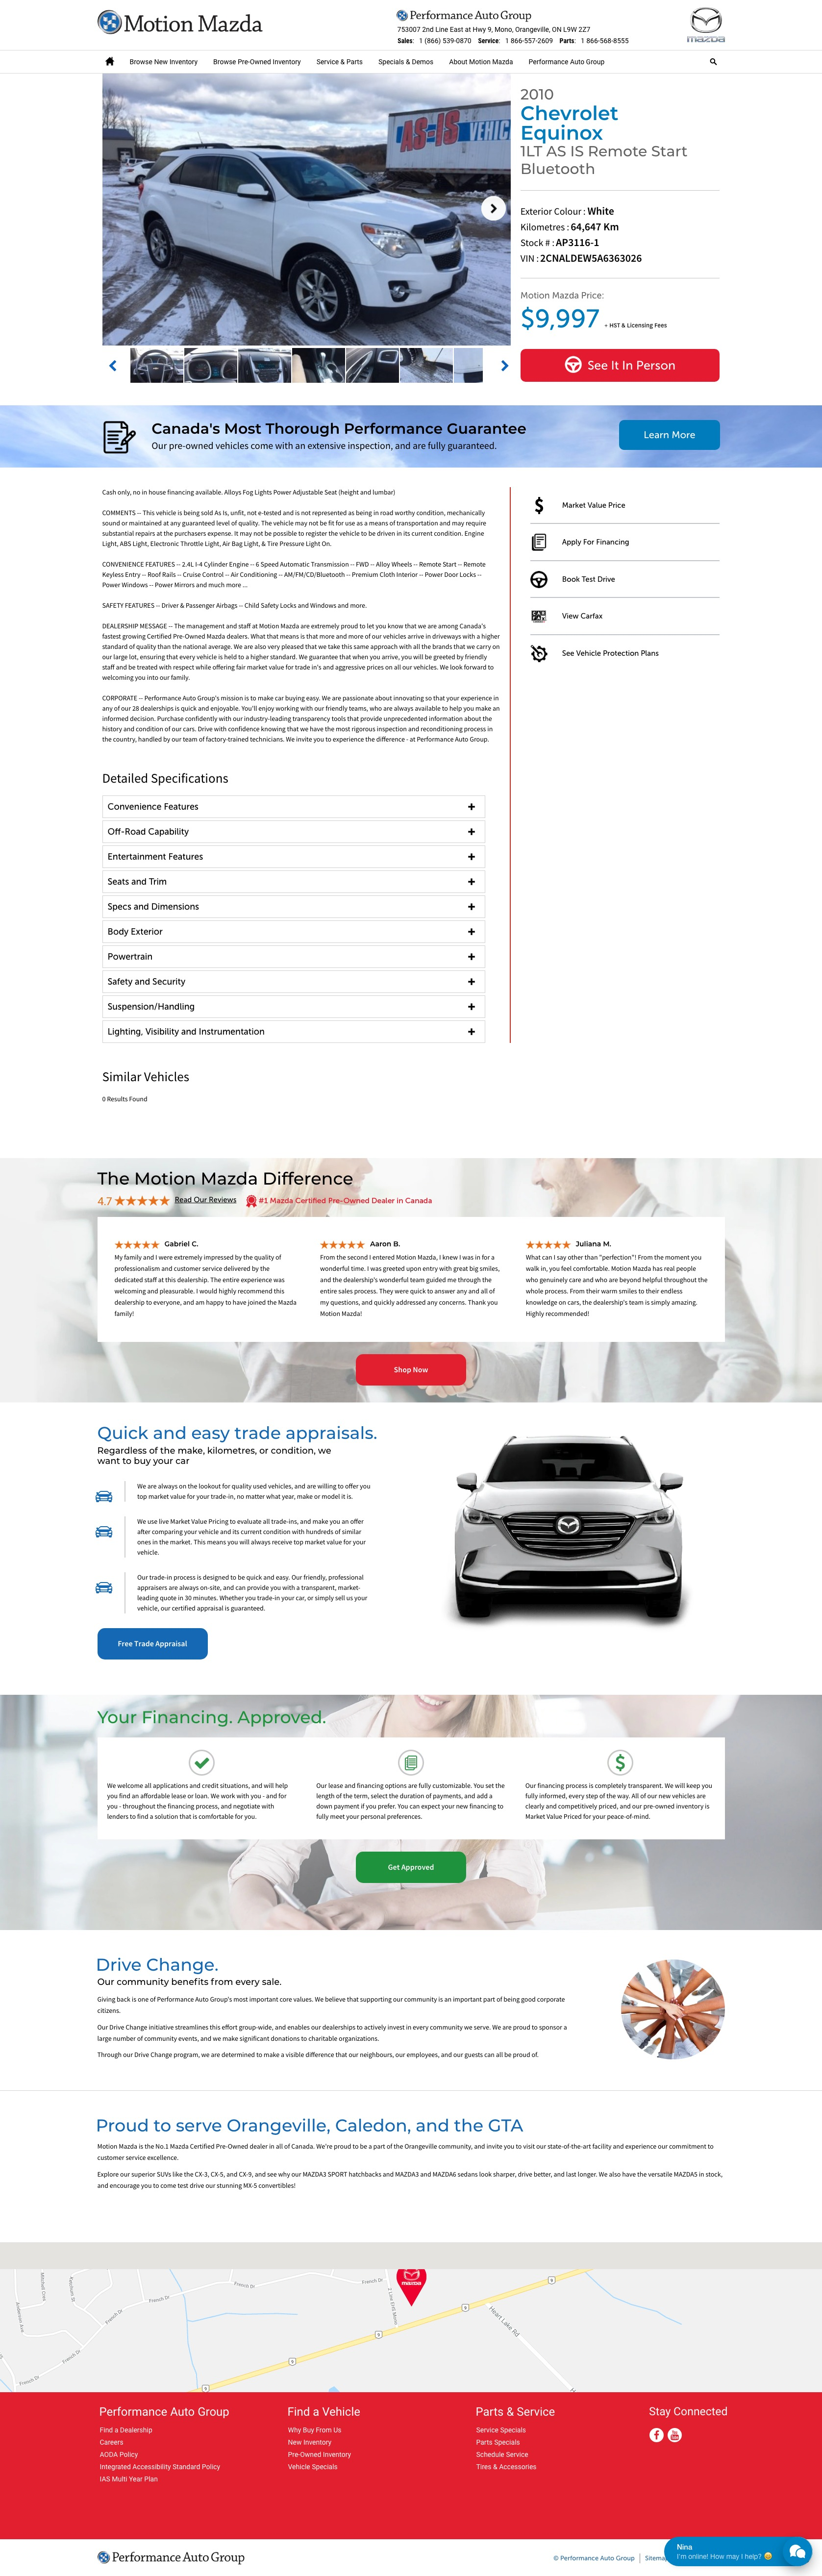car: (501, 360, 510, 371)
